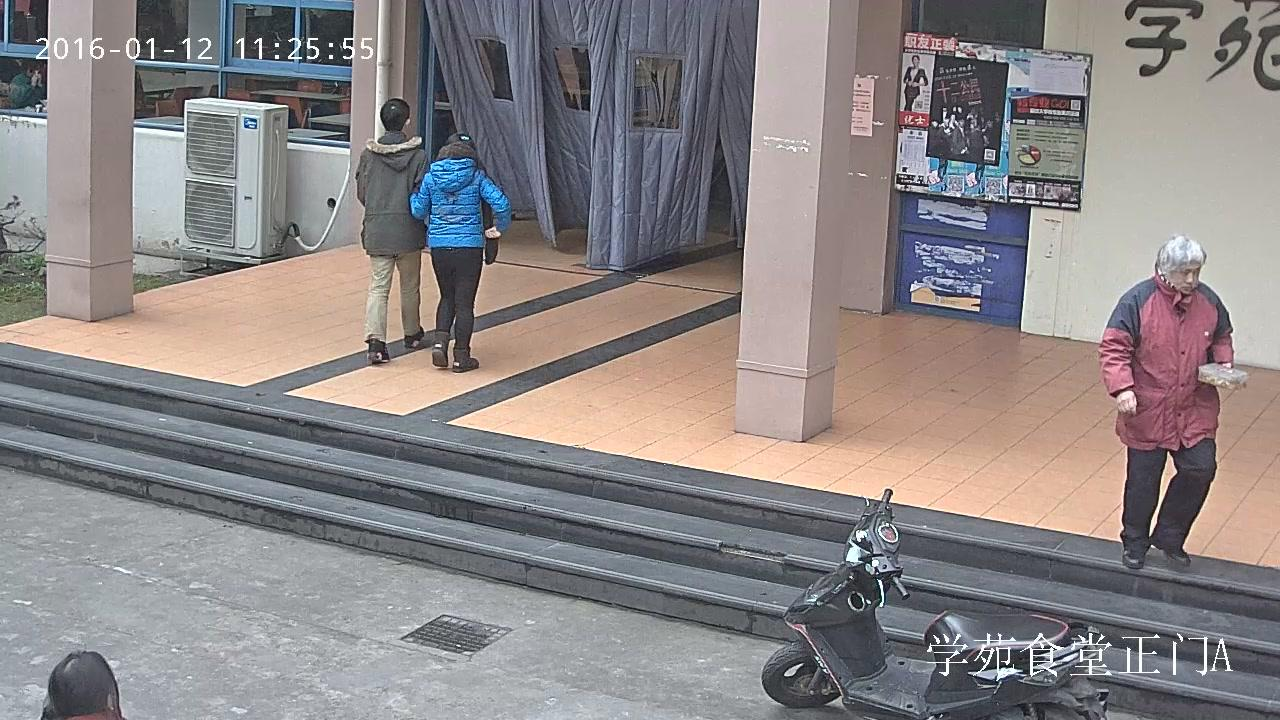person: (1096, 232, 1251, 570), (408, 129, 512, 373), (354, 97, 431, 363), (8, 58, 47, 117), (901, 53, 929, 111)
